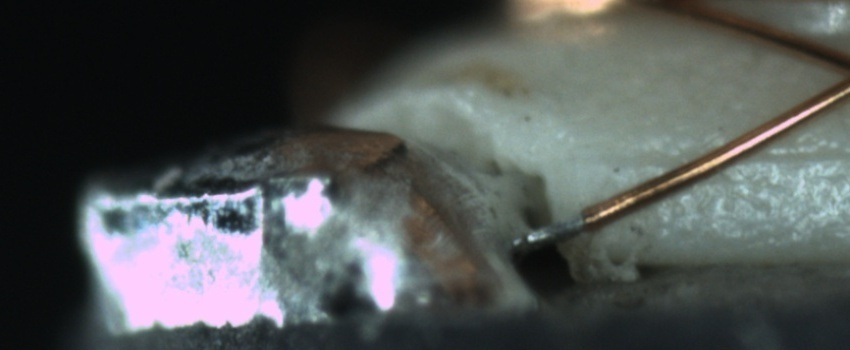DL: (601, 125, 849, 189)
TS: (518, 214, 587, 247)
TTCW: (514, 197, 609, 252)
